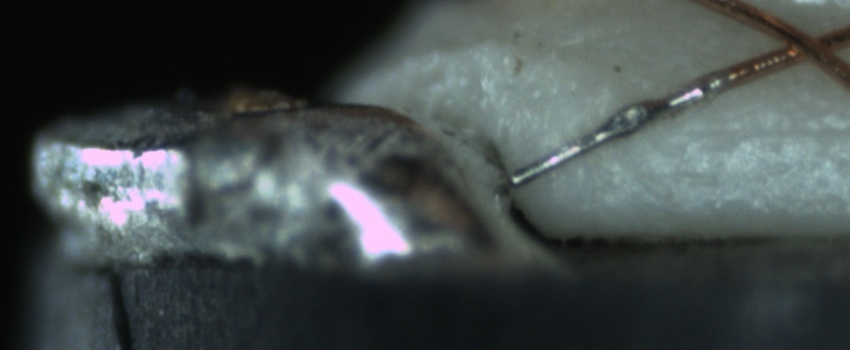CL: (763, 16, 844, 71)
DL: (672, 99, 850, 163)
TB: (603, 98, 658, 140)
TS: (508, 69, 727, 190)
TTCW: (513, 43, 803, 191)
